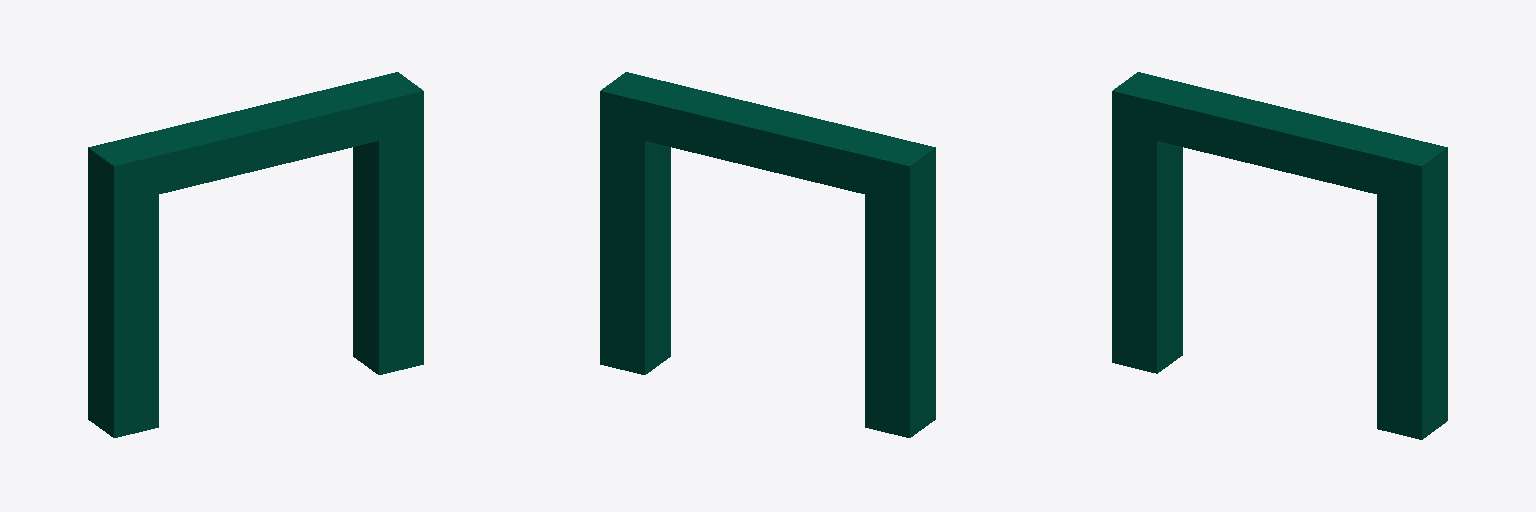
Rendered from men.obj.
The picture shows the model from 3 angles: view 1: azimuth 30°, elevation 25°; view 2: azimuth 150°, elevation 25°; view 3: azimuth 330°, elevation 25°; orthographic projection.
Visible parts, largest first — view 1: Cube_Cube_Material.001; view 2: Cube_Cube_Material.001; view 3: Cube_Cube_Material.001.
Boxes of the visible parts, x1,y1,x2,y2 form: Cube_Cube_Material.001: [88, 72, 423, 437]; Cube_Cube_Material.001: [600, 72, 935, 437]; Cube_Cube_Material.001: [1112, 72, 1447, 439].
Size of the model in its own units: 13.78 by 11.64 by 2.